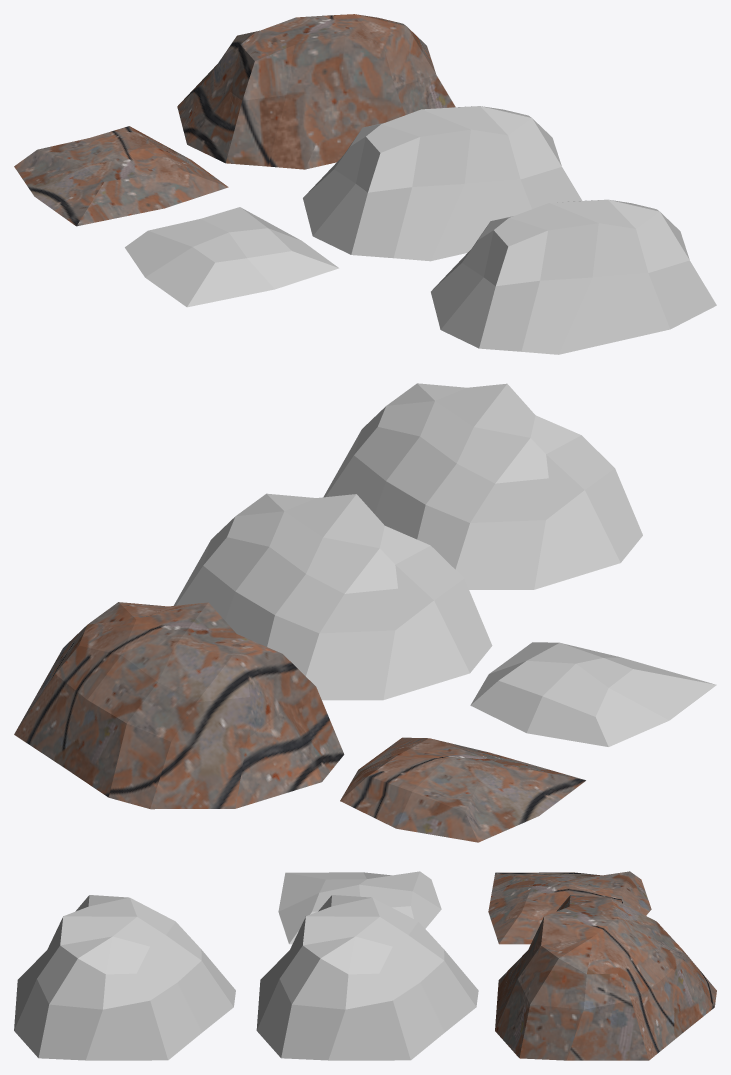
Rendered from Debris_PSX.fbx.
The picture shows the model from 3 angles, top to bottom: view 1: azimuth 30°, elevation 25°; view 2: azimuth 150°, elevation 25°; view 3: azimuth 270°, elevation 25°; orthographic projection. The views are drawn at different scales.
Parts seen in each view (by area): view 1: Debris3, Debris2, Debris1, Debris1-1, Debris2-2; view 2: Debris1, Debris3, Debris2, Debris1-1, Debris2-2; view 3: Debris1, Debris2, Debris3, Debris1-1, Debris2-2.
Boxes of the visible parts, x1=… form: Debris3: x1=431, y1=199, x2=716, y2=354; Debris2: x1=303, y1=106, x2=582, y2=261; Debris1: x1=177, y1=14, x2=455, y2=169; Debris1-1: x1=14, y1=126, x2=228, y2=226; Debris2-2: x1=125, y1=207, x2=338, y2=307; Debris1: x1=14, y1=602, x2=344, y2=809; Debris3: x1=323, y1=383, x2=642, y2=589; Debris2: x1=173, y1=493, x2=492, y2=700; Debris1-1: x1=340, y1=737, x2=585, y2=842; Debris2-2: x1=470, y1=642, x2=716, y2=746; Debris1: x1=495, y1=895, x2=716, y2=1060; Debris2: x1=256, y1=895, x2=478, y2=1060; Debris3: x1=14, y1=895, x2=235, y2=1060; Debris1-1: x1=488, y1=871, x2=651, y2=944; Debris2-2: x1=278, y1=871, x2=441, y2=944.
Size of the model in its own units: 6.13 by 1.46 by 9.71.
